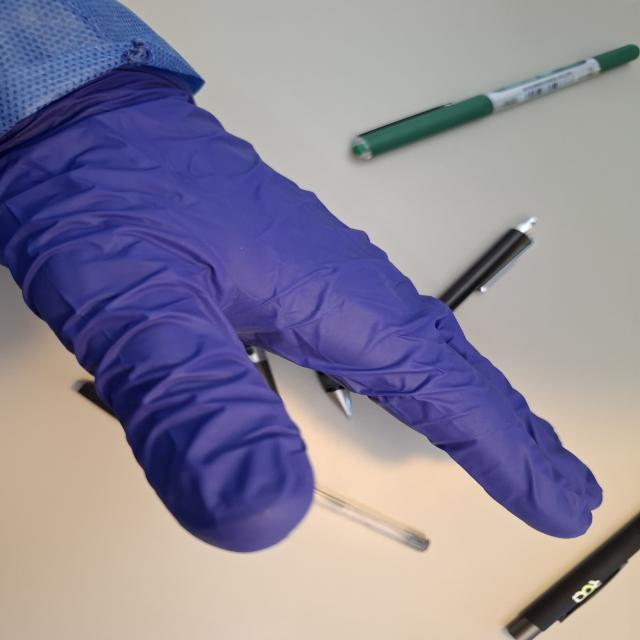glove_on: (0, 60, 607, 554)
